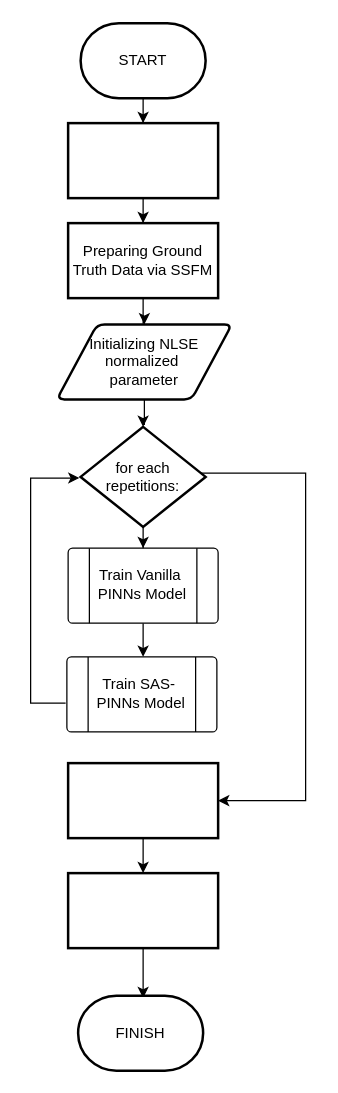
This 338x1093 diagram has some shape labels left out. The shapes that lost their labels are listed below. From the top down, each one's centre as x and y in pixels, then its label:
(x=142, y=160): Literature Review
(x=142, y=800): Examining model's convergence properties
(x=142, y=910): Results and Analysis
